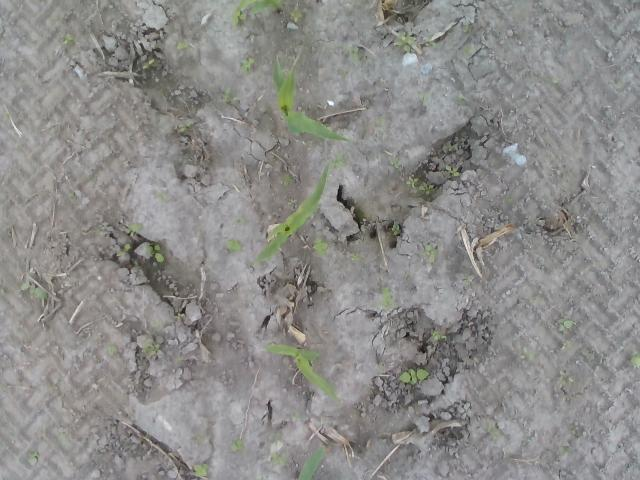Maize: (254, 160, 330, 262), (272, 55, 352, 143), (264, 343, 338, 402), (233, 0, 281, 26), (294, 446, 324, 480)
Weeds: (406, 173, 436, 201), (398, 366, 432, 385), (16, 280, 48, 299), (394, 30, 418, 53), (145, 241, 166, 267), (418, 239, 438, 263), (480, 420, 504, 440), (343, 44, 361, 64), (223, 86, 242, 104), (313, 236, 329, 257), (380, 286, 393, 310), (558, 318, 577, 334), (239, 54, 255, 73), (559, 368, 577, 384), (518, 346, 536, 362), (290, 5, 306, 23), (425, 32, 441, 49), (271, 450, 289, 465), (417, 88, 432, 106), (192, 462, 208, 478), (223, 239, 240, 254), (23, 450, 40, 465), (280, 174, 294, 192), (334, 150, 348, 168), (117, 240, 132, 256), (430, 328, 447, 342), (144, 342, 161, 356), (126, 222, 143, 236), (445, 163, 463, 176), (376, 114, 386, 137), (156, 190, 170, 206), (464, 270, 476, 288), (232, 439, 246, 453), (142, 56, 156, 70), (336, 68, 351, 81), (63, 32, 75, 48), (630, 351, 640, 369), (558, 446, 576, 456), (388, 158, 402, 170), (271, 431, 281, 447), (103, 344, 119, 354), (94, 223, 106, 236), (448, 142, 463, 152), (544, 76, 560, 85), (462, 45, 474, 57), (175, 121, 192, 129), (176, 39, 189, 49), (462, 22, 472, 34), (392, 224, 402, 236), (56, 430, 64, 444), (562, 340, 570, 354), (174, 312, 186, 321), (350, 252, 360, 262), (249, 7, 258, 15), (456, 96, 464, 104), (240, 12, 247, 20), (361, 239, 368, 245)
